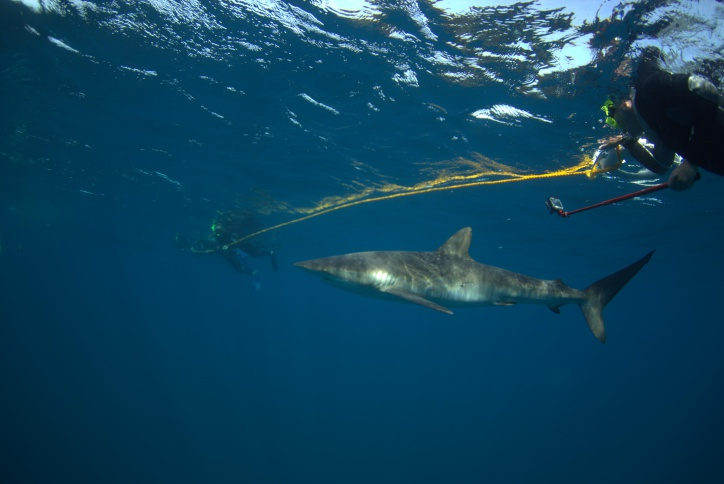Sedoso: (279, 221, 680, 361)
